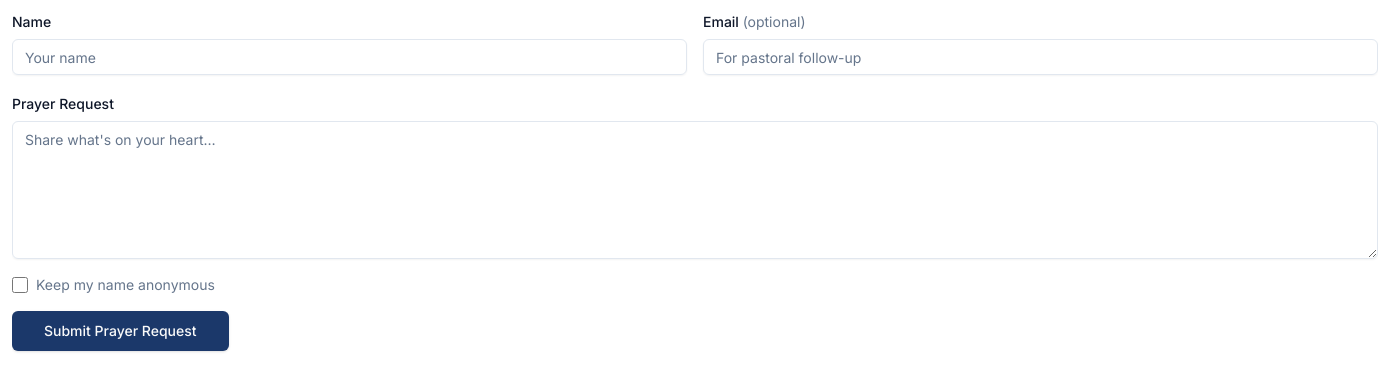
Test: PrayerRequestForm › client-side validation on submit › shows invalid email message for malformed email
The image size is (1390, 391).
Type "John" into the field labelled "Name" at (350, 57), box [12,39,687,75]
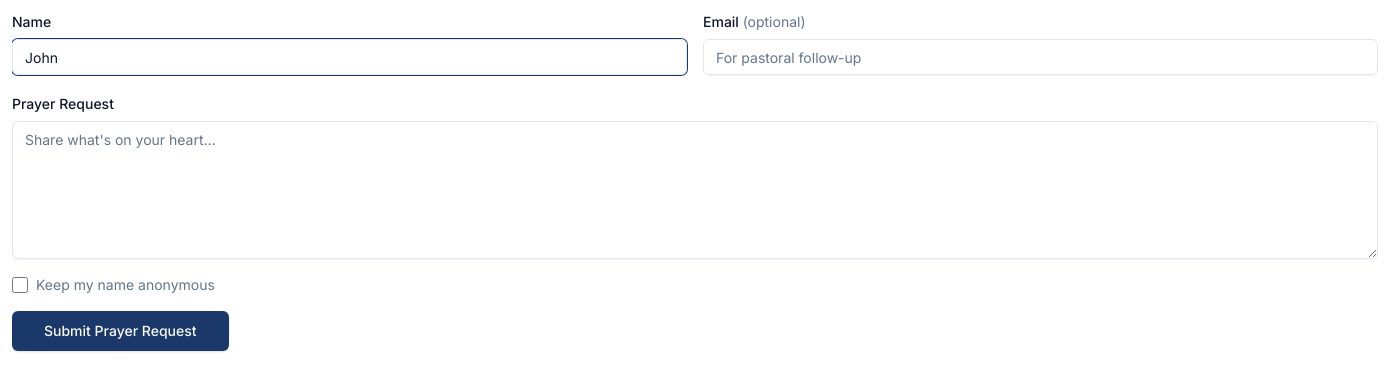
Type "notvalid" into the field labelled "Email (optional)" at (1040, 57), box [703,39,1378,75]
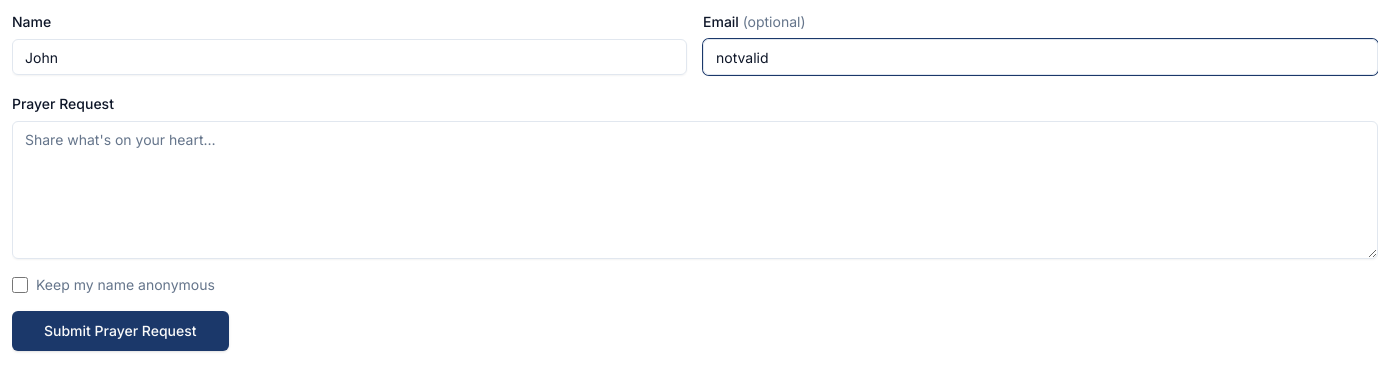
Type "Please pray for healing." into the text box labelled "Prayer Request" at (695, 190), box [12,121,1378,259]
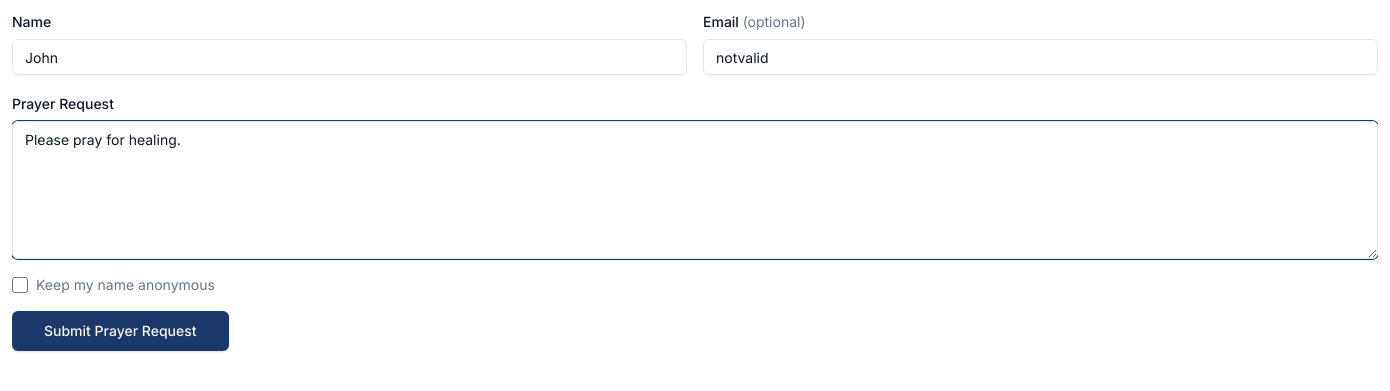
Click the button "Submit Prayer Request" at (120, 331), box [12,311,228,351]
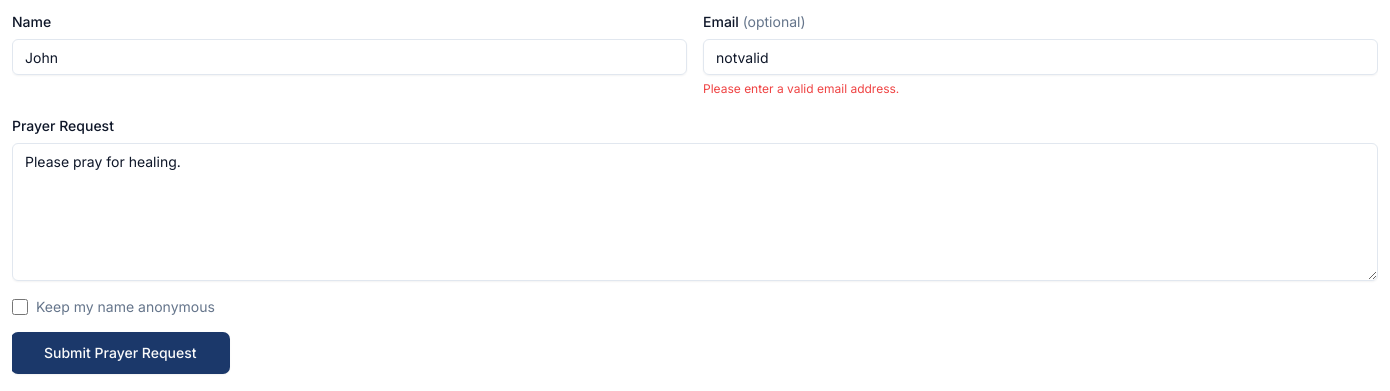
Expected: the text "Please enter a valid email address." is shown, [703,81,899,96]
